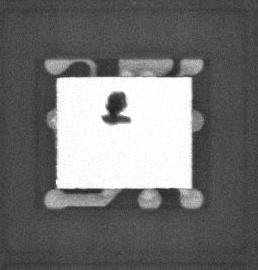DIE_INK: (96, 94, 125, 132)
